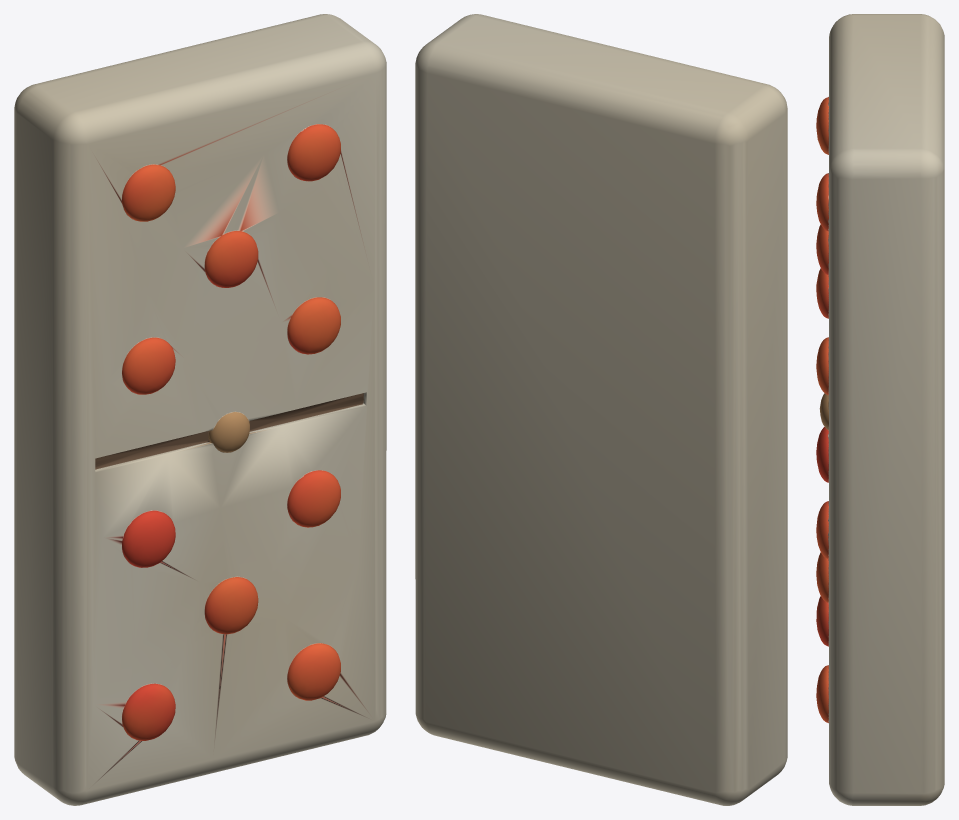
File: domino-5-5-standing.glb
The picture shows the model from 3 angles, left to right: view 1: azimuth 30°, elevation 25°; view 2: azimuth 150°, elevation 25°; view 3: azimuth 270°, elevation 25°; orthographic projection. The views are drawn at different scales.
Visible parts, largest first — view 1: domino_5_5; view 2: domino_5_5; view 3: domino_5_5.
Boxes of the visible parts, x1,y1,x2,y2 form: domino_5_5: [14, 14, 386, 805]; domino_5_5: [415, 14, 787, 805]; domino_5_5: [816, 14, 944, 805].
Size of the model in its own units: 2 by 4 by 0.711.
